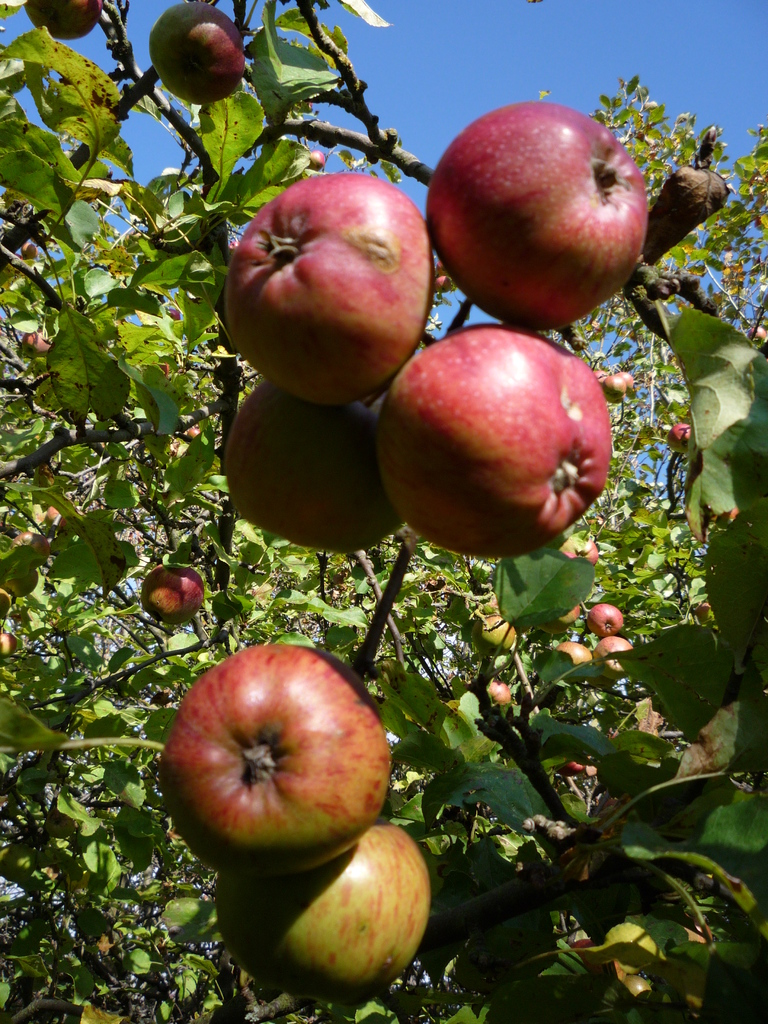Apple: (156, 649, 391, 871), (426, 101, 648, 330), (382, 320, 599, 552), (226, 171, 433, 407), (216, 816, 434, 999), (144, 2, 249, 105), (140, 566, 202, 625), (23, 0, 105, 40), (591, 637, 634, 675), (471, 620, 515, 653), (534, 604, 579, 635), (584, 602, 623, 637), (8, 535, 49, 565), (5, 567, 38, 599), (570, 935, 593, 976), (550, 640, 593, 661), (21, 329, 51, 355), (555, 754, 591, 775), (667, 422, 693, 451), (599, 377, 625, 403), (620, 975, 649, 997), (485, 680, 510, 702), (44, 505, 64, 529), (429, 271, 452, 291), (693, 600, 712, 624), (0, 588, 12, 618), (0, 634, 14, 659), (307, 150, 324, 166), (746, 327, 765, 339), (618, 372, 634, 386), (19, 245, 33, 259), (436, 262, 446, 272)
